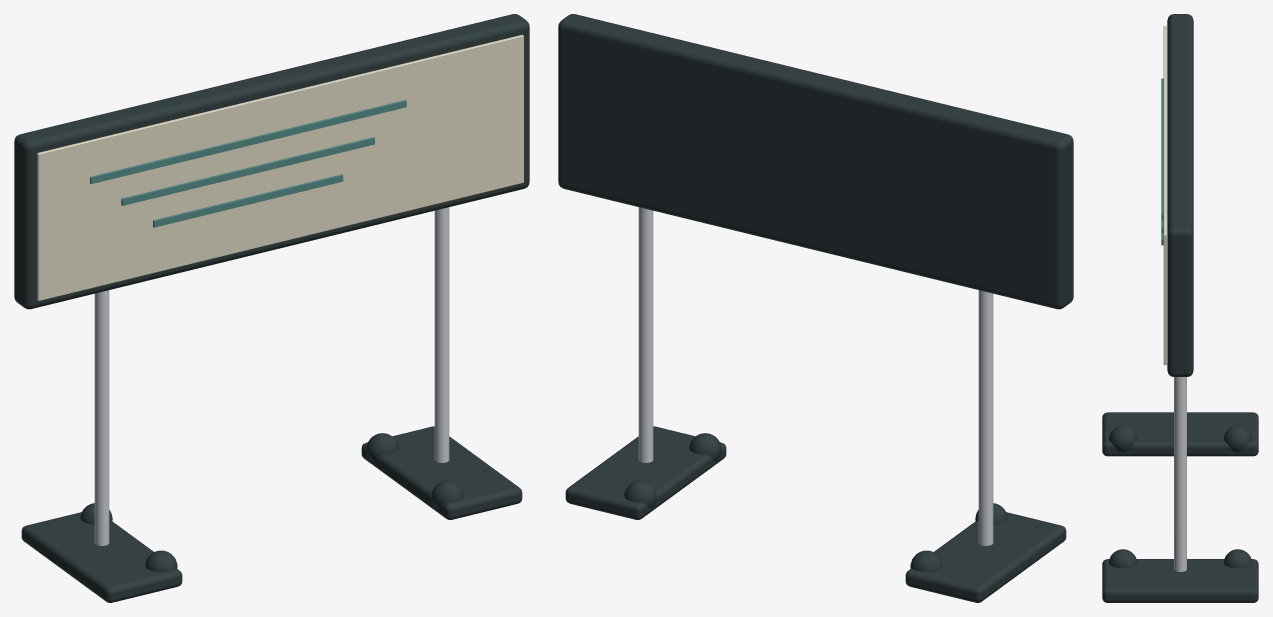
Rendered from captions.glb.
3 views of the same model, side by side, from view 1: azimuth 30°, elevation 25°; view 2: azimuth 150°, elevation 25°; view 3: azimuth 270°, elevation 25° (orthographic). The views are drawn at different scales.
Visible parts, largest first — view 1: captions; view 2: captions; view 3: captions.
Boxes of the visible parts, x1,y1,x2,y2 form: captions: (14,14,529,602); captions: (558,14,1073,602); captions: (1102,14,1258,602).
Bounding box in the file's own units: 1.98 × 1.66 × 0.6.
